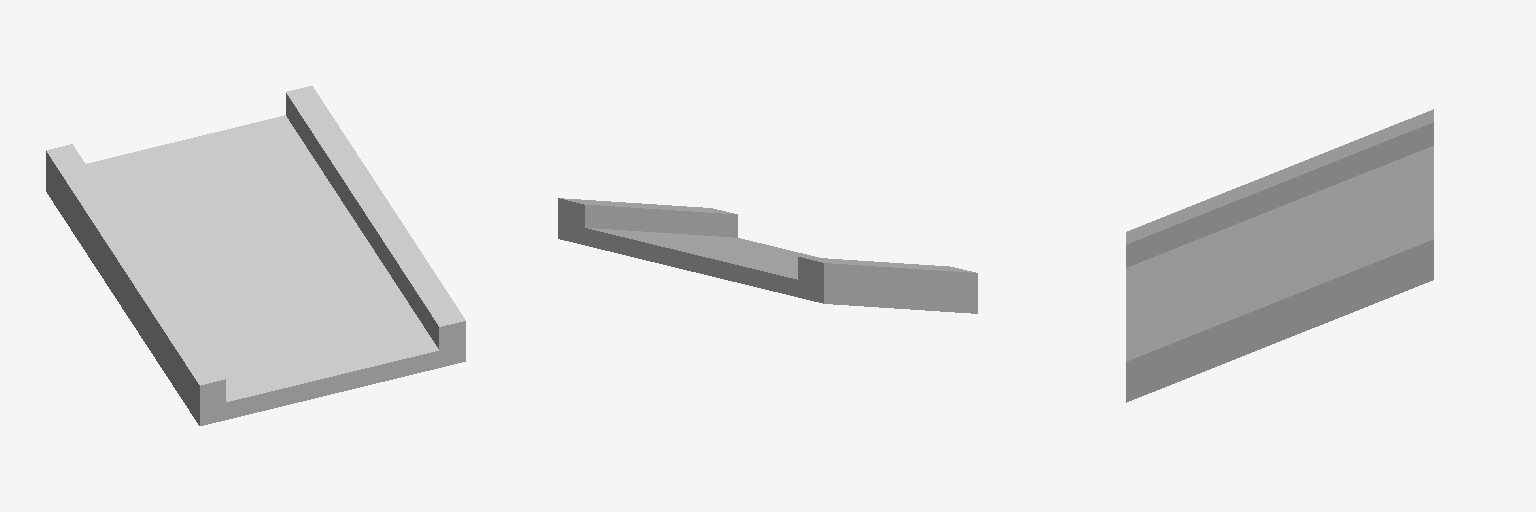
The model's file is Ramp_3_01.obj.
3 views of the same model, side by side, from view 1: azimuth 30°, elevation 25°; view 2: azimuth 150°, elevation 25°; view 3: azimuth 270°, elevation 25° (orthographic).
Visible parts, largest first — view 1: Mesh1 Ramp_3 Model; view 2: Mesh1 Ramp_3 Model; view 3: Mesh1 Ramp_3 Model.
Part boxes in pixels (x1,y1,x2,y2): Mesh1 Ramp_3 Model: (46,86,465,425); Mesh1 Ramp_3 Model: (558,198,977,313); Mesh1 Ramp_3 Model: (1126,109,1433,402).
Bounding box in the file's own units: 3 × 1.76 × 3.